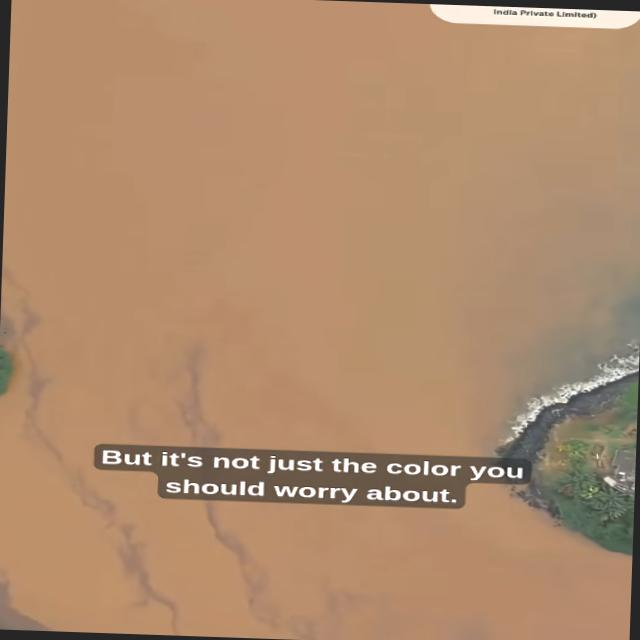yellow_boy: (0, 0, 640, 640)
